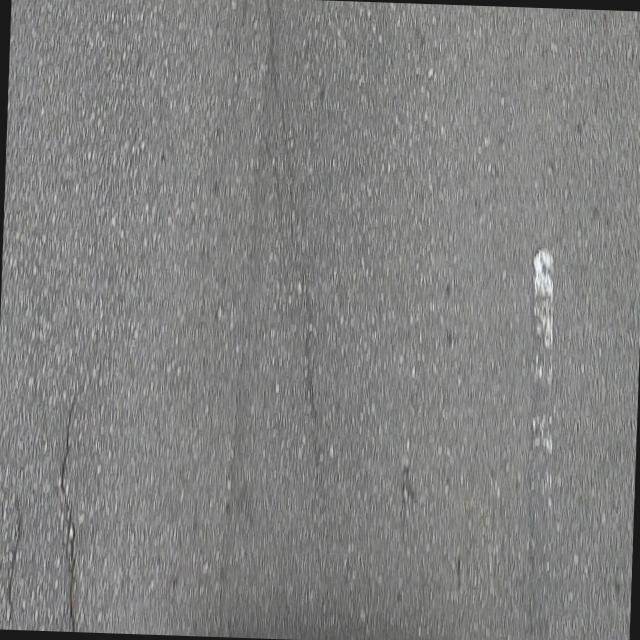Retak-Memanjang: (56, 371, 94, 631), (2, 497, 25, 623)
